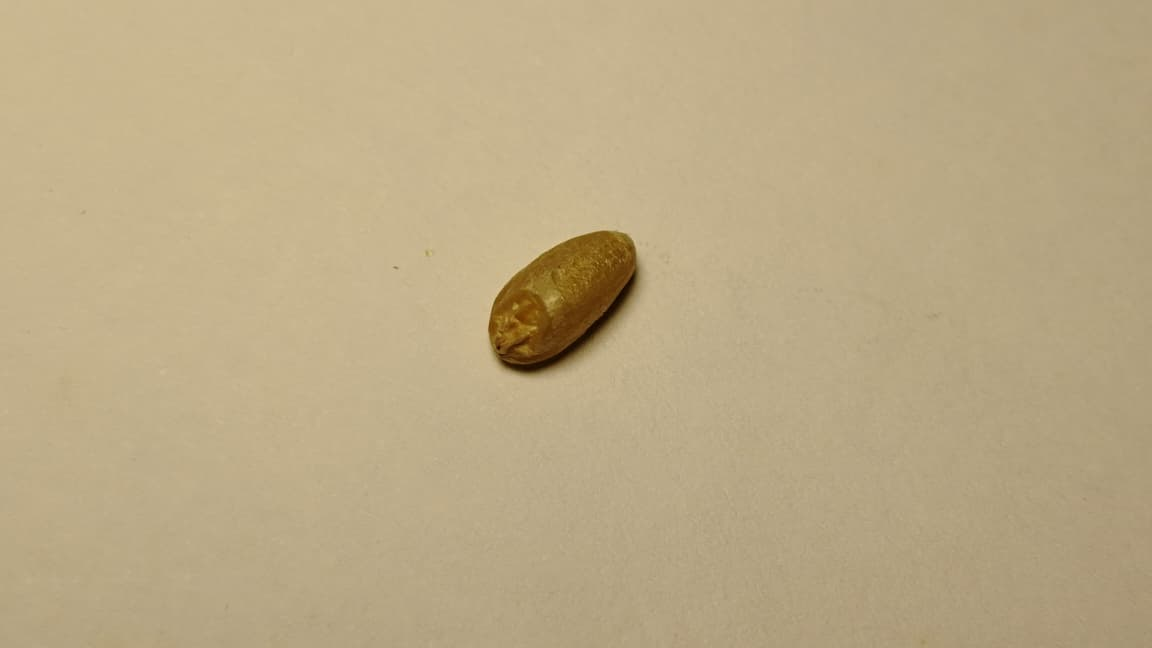healthy: (489, 230, 636, 365)
